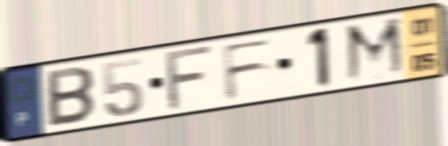1: (304, 24, 333, 90)
5: (100, 55, 144, 119)
B: (45, 64, 97, 130)
F: (219, 35, 276, 103), (165, 42, 217, 114)
M: (343, 14, 409, 87)
